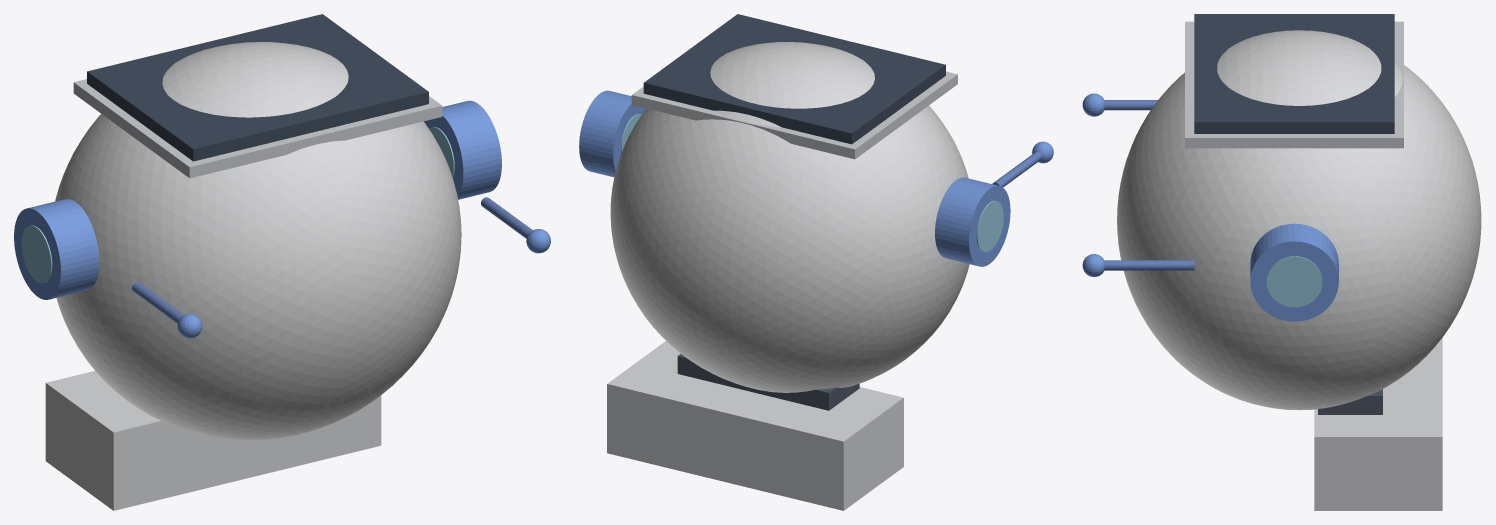
The model's file is enver_crm_robot_assistant.glb.
3 renders of one model, left to right at view 1: azimuth 30°, elevation 25°; view 2: azimuth 150°, elevation 25°; view 3: azimuth 270°, elevation 25°, orthographic. The views are drawn at different scales.
Visible parts, largest first — view 1: part_0, part_13, part_1, part_2, part_3, part_7, part_4, part_9, part_5; view 2: part_0, part_13, part_1, part_3, part_2, part_7, part_14, part_4, part_5; view 3: part_0, part_13, part_1, part_2, part_7, part_8, part_9, part_14, part_5.
Boxes of the visible parts, box(x1,y1,x2,y2) form: part_0: box(55, 42, 461, 440); part_13: box(45, 371, 381, 510); part_1: box(87, 14, 428, 161); part_2: box(73, 79, 442, 178); part_3: box(14, 199, 99, 299); part_7: box(424, 100, 501, 199); part_4: box(21, 225, 52, 283); part_9: box(481, 197, 532, 238); part_5: box(132, 282, 183, 323); part_0: box(610, 42, 969, 392); part_13: box(607, 341, 903, 510); part_1: box(643, 14, 945, 144); part_3: box(935, 177, 1010, 266); part_2: box(631, 71, 957, 159); part_7: box(579, 90, 646, 177); part_14: box(677, 354, 859, 410); part_4: box(976, 200, 1003, 252); part_5: box(992, 151, 1042, 187); part_0: box(1117, 30, 1481, 410); part_13: box(1314, 338, 1442, 510); part_1: box(1194, 14, 1394, 133); part_2: box(1185, 21, 1403, 148); part_7: box(1250, 223, 1338, 321); part_8: box(1266, 256, 1322, 307); part_9: box(1104, 260, 1194, 270); part_14: box(1318, 389, 1382, 414); part_5: box(1104, 100, 1157, 110).
Bounding box in the file's own units: 2.07 × 1.89 × 1.71.
